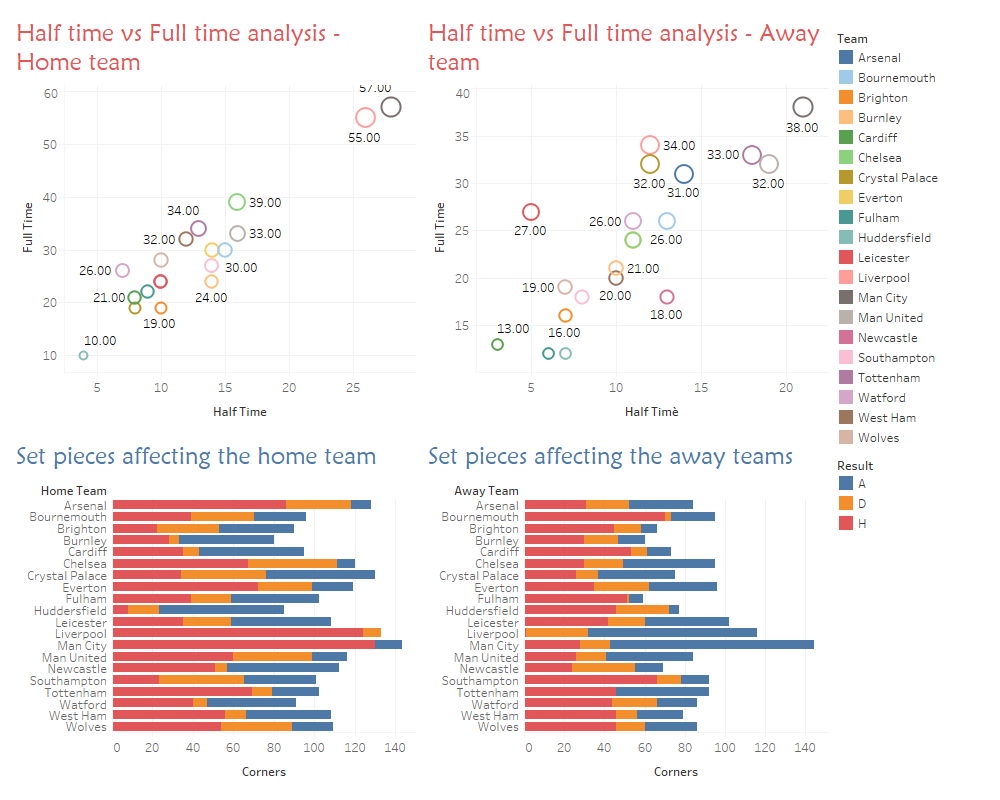

What the dashboard file says about the page in this screenshot:
{"tool":"tableau","page":{"name":"Dashboard 1","canvas":[1000,800],"ordinal":0},"visuals":[{"type":"worksheet","title":"Sheet 2","mark":"Automatic","rows":["FTHG"],"cols":["HTHG"],"box":[8,8,412,353]},{"type":"worksheet","title":"Sheet 1","mark":"Automatic","rows":["FTAG"],"cols":["HTAG"],"box":[420,8,412,353]},{"type":"legend","title":"Sheet 1","param":"[federated.1pua1bc19rsqza1at6eyx1mzpjns].[none:AwayTeam:nk]","box":[832,8,160,443]},{"type":"worksheet","title":"Sheet 3","mark":"Automatic","rows":["HomeTeam"],"cols":["HC"],"box":[8,361,412,431]},{"type":"worksheet","title":"Sheet 4","mark":"Automatic","rows":["AwayTeam"],"cols":["AC"],"box":[420,361,412,431]},{"type":"legend","title":"Sheet 3","param":"[federated.1pua1bc19rsqza1at6eyx1mzpjns].[none:FTR:nk]","box":[832,451,160,86]}]}

Visuals, with their boxes in screenshot pixels (x1, y1, x2, y2), scaled from the page's 1000x800 canvas onto the 1000x800 screenshot:
"Sheet 2" worksheet: <box>8,8,420,361</box>
"Sheet 1" worksheet: <box>420,8,832,361</box>
"Sheet 1" legend: <box>832,8,992,451</box>
"Sheet 3" worksheet: <box>8,361,420,792</box>
"Sheet 4" worksheet: <box>420,361,832,792</box>
"Sheet 3" legend: <box>832,451,992,537</box>
